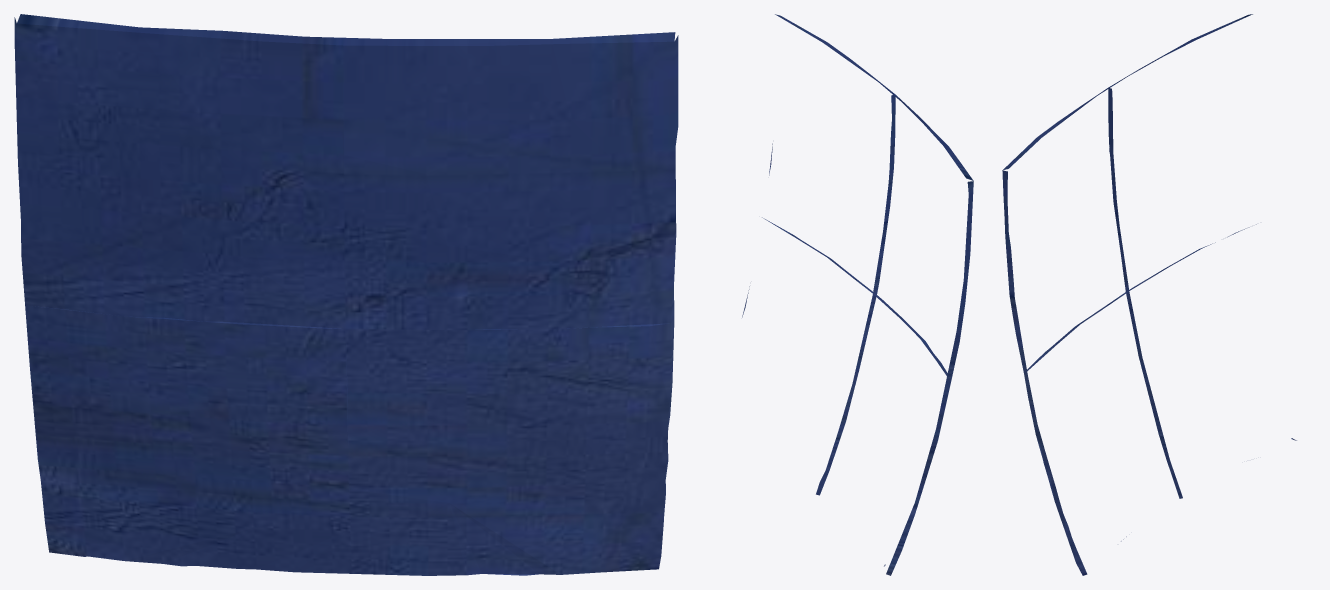
3 renders of one model, left to right at view 1: azimuth 30°, elevation 25°; view 2: azimuth 150°, elevation 25°; view 3: azimuth 270°, elevation 25°, orthographic. The views are drawn at different scales.
Bounding box in the file's own units: 2283220 × 2456580 × 1762560.
Materials: 1 (1 with a texture image).
